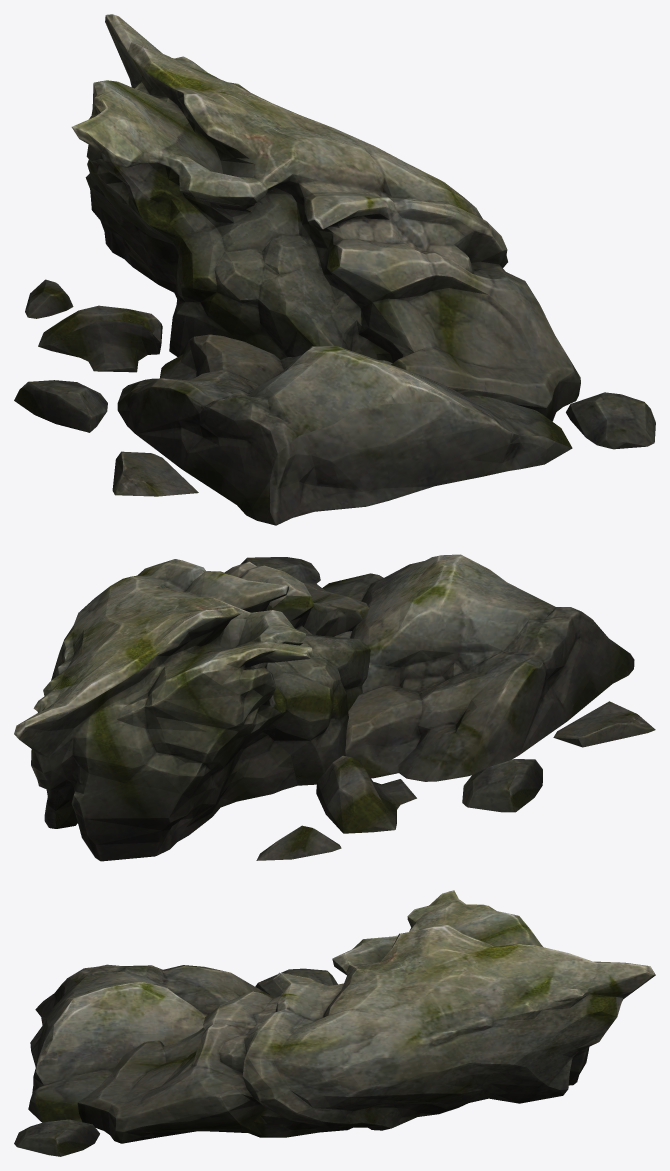
The picture shows the model from 3 angles, top to bottom: view 1: azimuth 30°, elevation 25°; view 2: azimuth 150°, elevation 25°; view 3: azimuth 270°, elevation 25°; orthographic projection. The views are drawn at different scales.
Bounding box in the file's own units: 7.3 × 2.81 × 10.8.
1 material, 1 textured.
